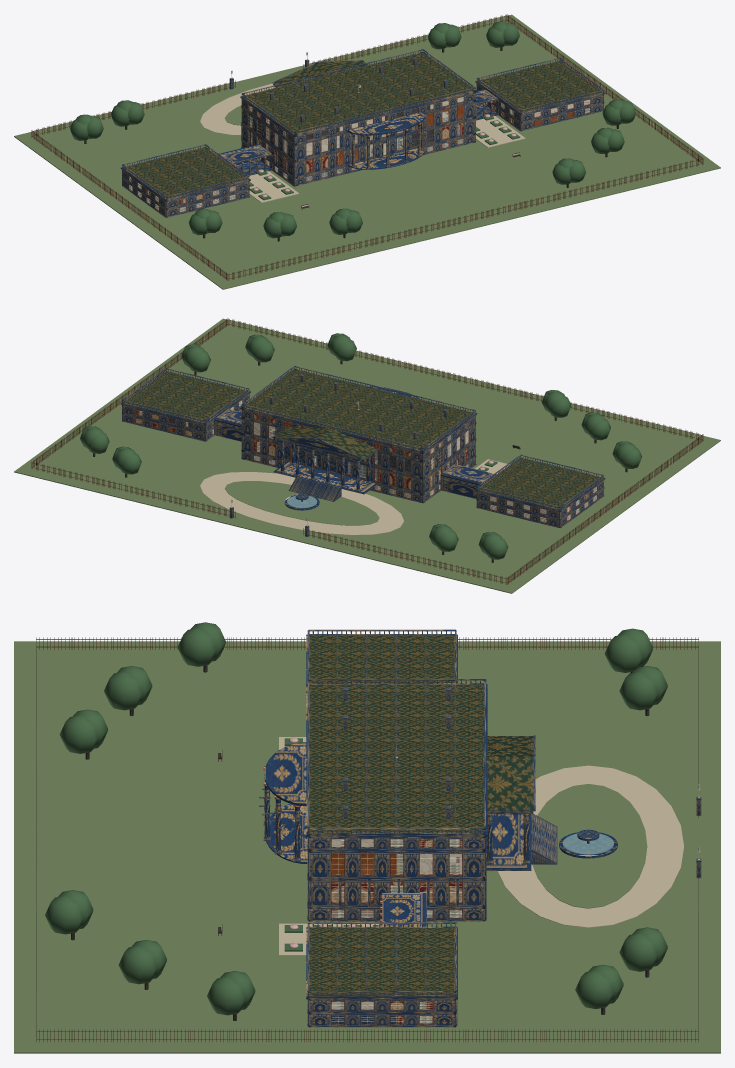
File: white-house.gltf
3 renders of one model, top to bottom at view 1: azimuth 30°, elevation 25°; view 2: azimuth 150°, elevation 25°; view 3: azimuth 270°, elevation 25°, orthographic. The views are drawn at different scales.
Visible parts, largest first — view 1: grounds:-1:grounds:grass:, residence:6:roof:slate:, grounds:-1:grounds:foliage:, grounds:-1:grounds:bronze:, residence:1:exterior:stone:S, east:6:roof:slate:, west:6:roof:slate:, grounds:-1:grounds:gravel:, residence:6:roof:stone:, residence:3:exterior:stone:S, west:6:roof:stone:, east:6:roof:stone: (+12 smaller); view 2: grounds:-1:grounds:grass:, residence:6:roof:slate:, grounds:-1:grounds:bronze:, grounds:-1:grounds:foliage:, residence:1:exterior:stone:N, grounds:-1:grounds:gravel:, east:6:roof:slate:, west:6:roof:slate:, residence:6:roof:stone:, residence:1:exterior:slate:N, east:6:roof:stone:, west:6:roof:stone: (+13 smaller); view 3: grounds:-1:grounds:grass:, residence:6:roof:slate:, grounds:-1:grounds:foliage:, grounds:-1:grounds:gravel:, east:6:roof:slate:, west:6:roof:slate:, grounds:-1:grounds:bronze:, residence:1:exterior:stone:S, residence:1:exterior:stone:N, residence:6:roof:stone:, residence:1:exterior:slate:N, residence:3:exterior:stone:E (+16 smaller).
Boxes of the visible parts, x1,y1,x2,y2 form: grounds:-1:grounds:grass:: (14, 14, 720, 289); residence:6:roof:slate:: (243, 52, 473, 133); grounds:-1:grounds:foliage:: (70, 21, 636, 238); grounds:-1:grounds:bronze:: (31, 14, 703, 280); residence:1:exterior:stone:S: (294, 112, 475, 176); east:6:roof:slate:: (479, 61, 601, 111); west:6:roof:slate:: (124, 147, 247, 198); grounds:-1:grounds:gravel:: (200, 83, 525, 202); residence:6:roof:stone:: (240, 49, 477, 136); residence:3:exterior:stone:S: (294, 101, 475, 160); west:6:roof:stone:: (120, 144, 250, 201); east:6:roof:stone:: (475, 58, 605, 114); grounds:-1:grounds:grass:: (14, 318, 720, 593); residence:6:roof:slate:: (243, 369, 473, 450); grounds:-1:grounds:bronze:: (31, 318, 703, 584); grounds:-1:grounds:foliage:: (80, 333, 641, 559); residence:1:exterior:stone:N: (242, 435, 423, 501); grounds:-1:grounds:gravel:: (200, 459, 509, 535); east:6:roof:slate:: (124, 371, 247, 422); west:6:roof:slate:: (478, 458, 601, 508); residence:6:roof:stone:: (240, 366, 477, 453); residence:1:exterior:slate:N: (274, 427, 376, 458); east:6:roof:stone:: (120, 368, 250, 425); west:6:roof:stone:: (475, 454, 605, 511); grounds:-1:grounds:grass:: (14, 641, 720, 1053); residence:6:roof:slate:: (309, 684, 484, 832); grounds:-1:grounds:foliage:: (45, 622, 667, 1015); grounds:-1:grounds:gravel:: (279, 737, 684, 955); east:6:roof:slate:: (309, 928, 454, 994); west:6:roof:slate:: (309, 635, 454, 683); grounds:-1:grounds:bronze:: (36, 637, 698, 1041); residence:1:exterior:stone:S: (259, 742, 308, 906); residence:1:exterior:stone:N: (485, 735, 557, 906); residence:6:roof:stone:: (306, 679, 487, 836); residence:1:exterior:slate:N: (483, 736, 533, 810); residence:3:exterior:stone:E: (308, 852, 485, 876).
Bounding box in the file's own units: 132 × 15.57 × 96.
Materials: 25 (16 with a texture image).
